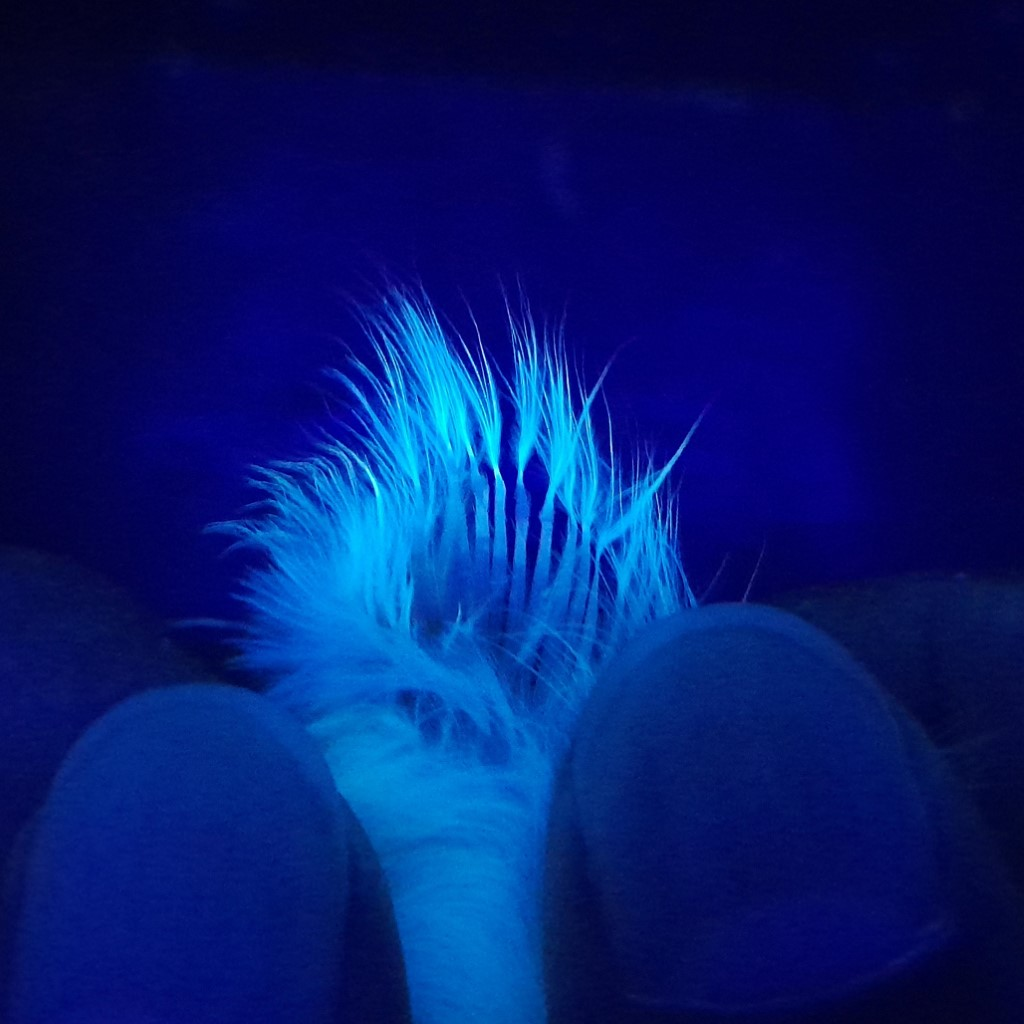male: (330, 445, 639, 800)
